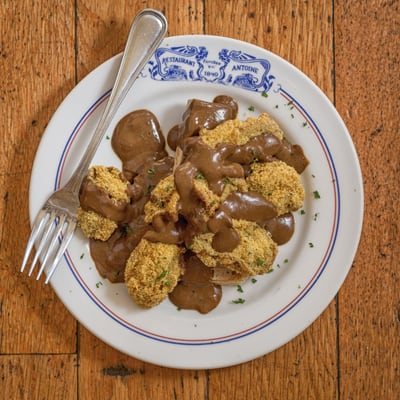burger: (18, 8, 175, 285)
sushi: (7, 17, 364, 379)
